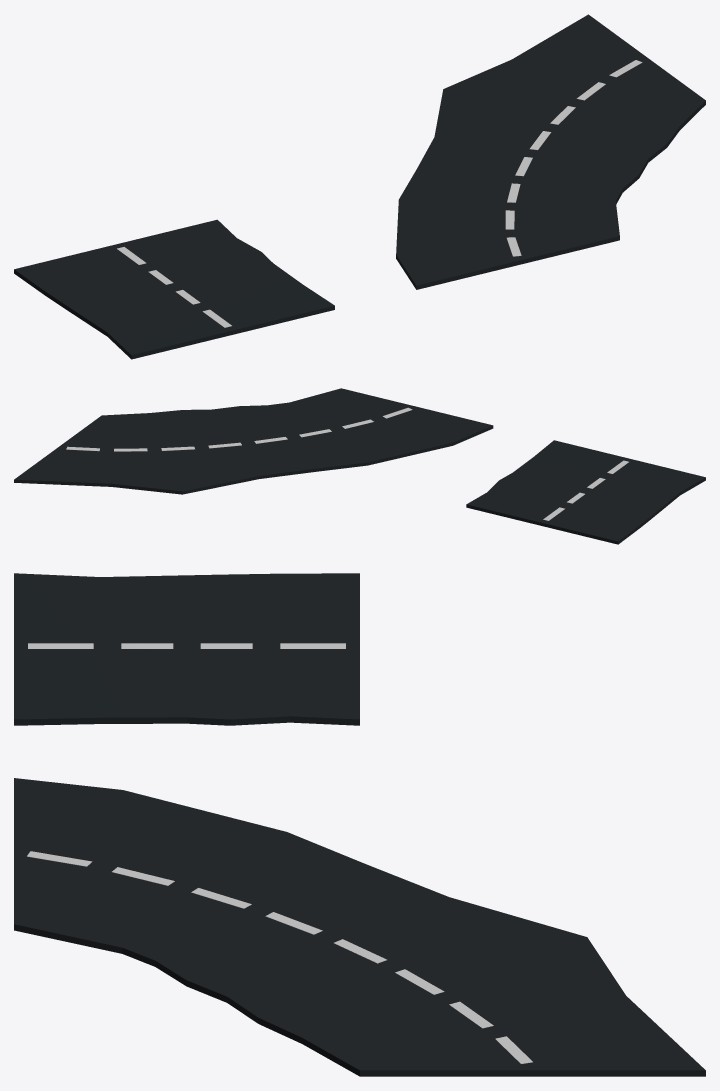
Rendered from Roads.fbx.
The picture shows the model from 3 angles, top to bottom: view 1: azimuth 30°, elevation 25°; view 2: azimuth 150°, elevation 25°; view 3: azimuth 270°, elevation 25°; orthographic projection. The views are drawn at different scales.
Parts seen in each view (by area): view 1: Road_turn, Road_Straight; view 2: Road_turn, Road_Straight; view 3: Road_turn, Road_Straight.
Boxes of the visible parts, x1,y1,x2,y2 form: Road_turn: (396,14,705,289); Road_Straight: (14,219,334,359); Road_turn: (14,388,493,494); Road_Straight: (466,440,705,544); Road_turn: (14,778,705,1076); Road_Straight: (14,573,359,725).
Bounding box in the file's own units: 1700 × 10.5 × 1000.
